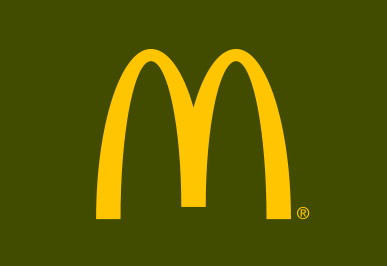mcdonalds: (93, 48, 290, 218)
